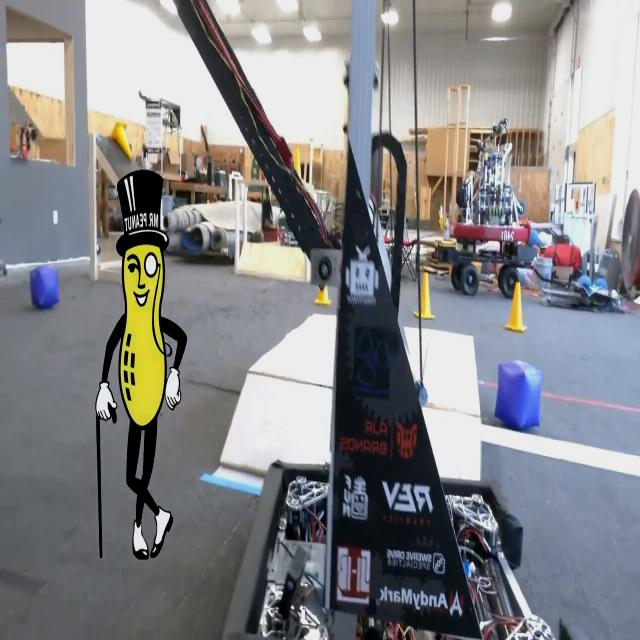frc_cone: (506, 279, 524, 337), (414, 272, 431, 321), (312, 271, 331, 303)
frc_cube: (496, 360, 544, 433), (30, 260, 58, 311)
